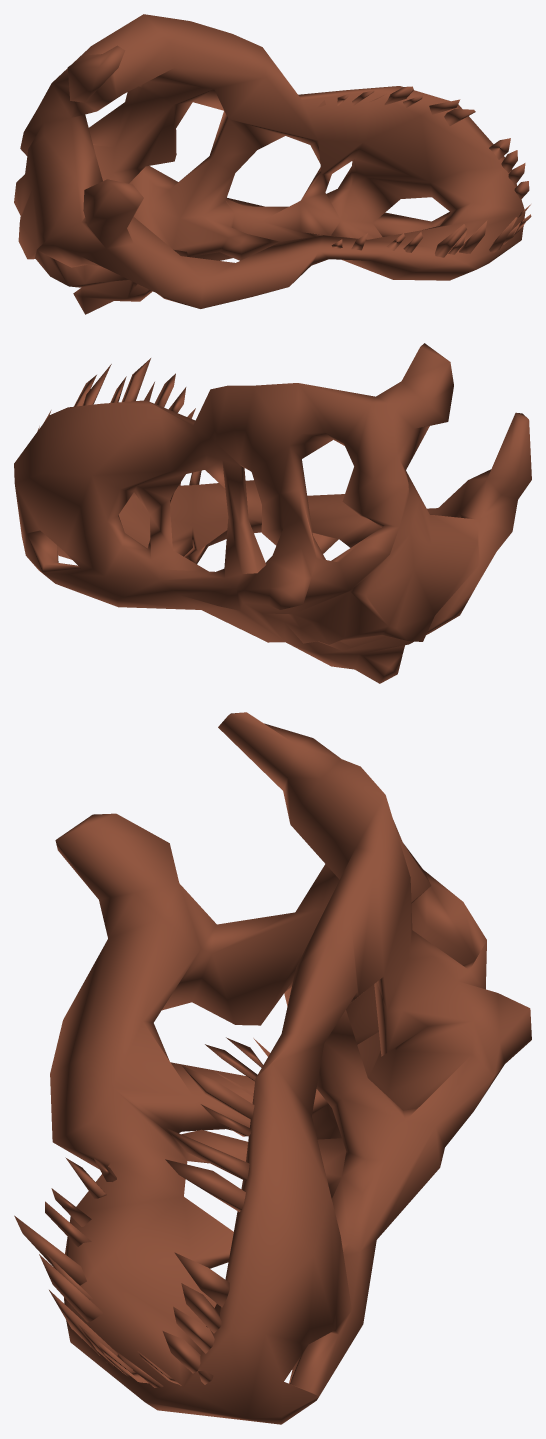
The model's file is t-rex_bone_1.fbx.
The picture shows the model from 3 angles, top to bottom: view 1: azimuth 30°, elevation 25°; view 2: azimuth 150°, elevation 25°; view 3: azimuth 270°, elevation 25°; orthographic projection. The views are drawn at different scales.
Visible parts, largest first — view 1: t-rex_bone_1; view 2: t-rex_bone_1; view 3: t-rex_bone_1.
Boxes of the visible parts, box(x1,y1,x2,y2) form: t-rex_bone_1: box(14, 14, 531, 314); t-rex_bone_1: box(14, 343, 531, 683); t-rex_bone_1: box(14, 712, 531, 1424).
Bounding box in the file's own units: 1.52 × 0.9312 × 0.96.
